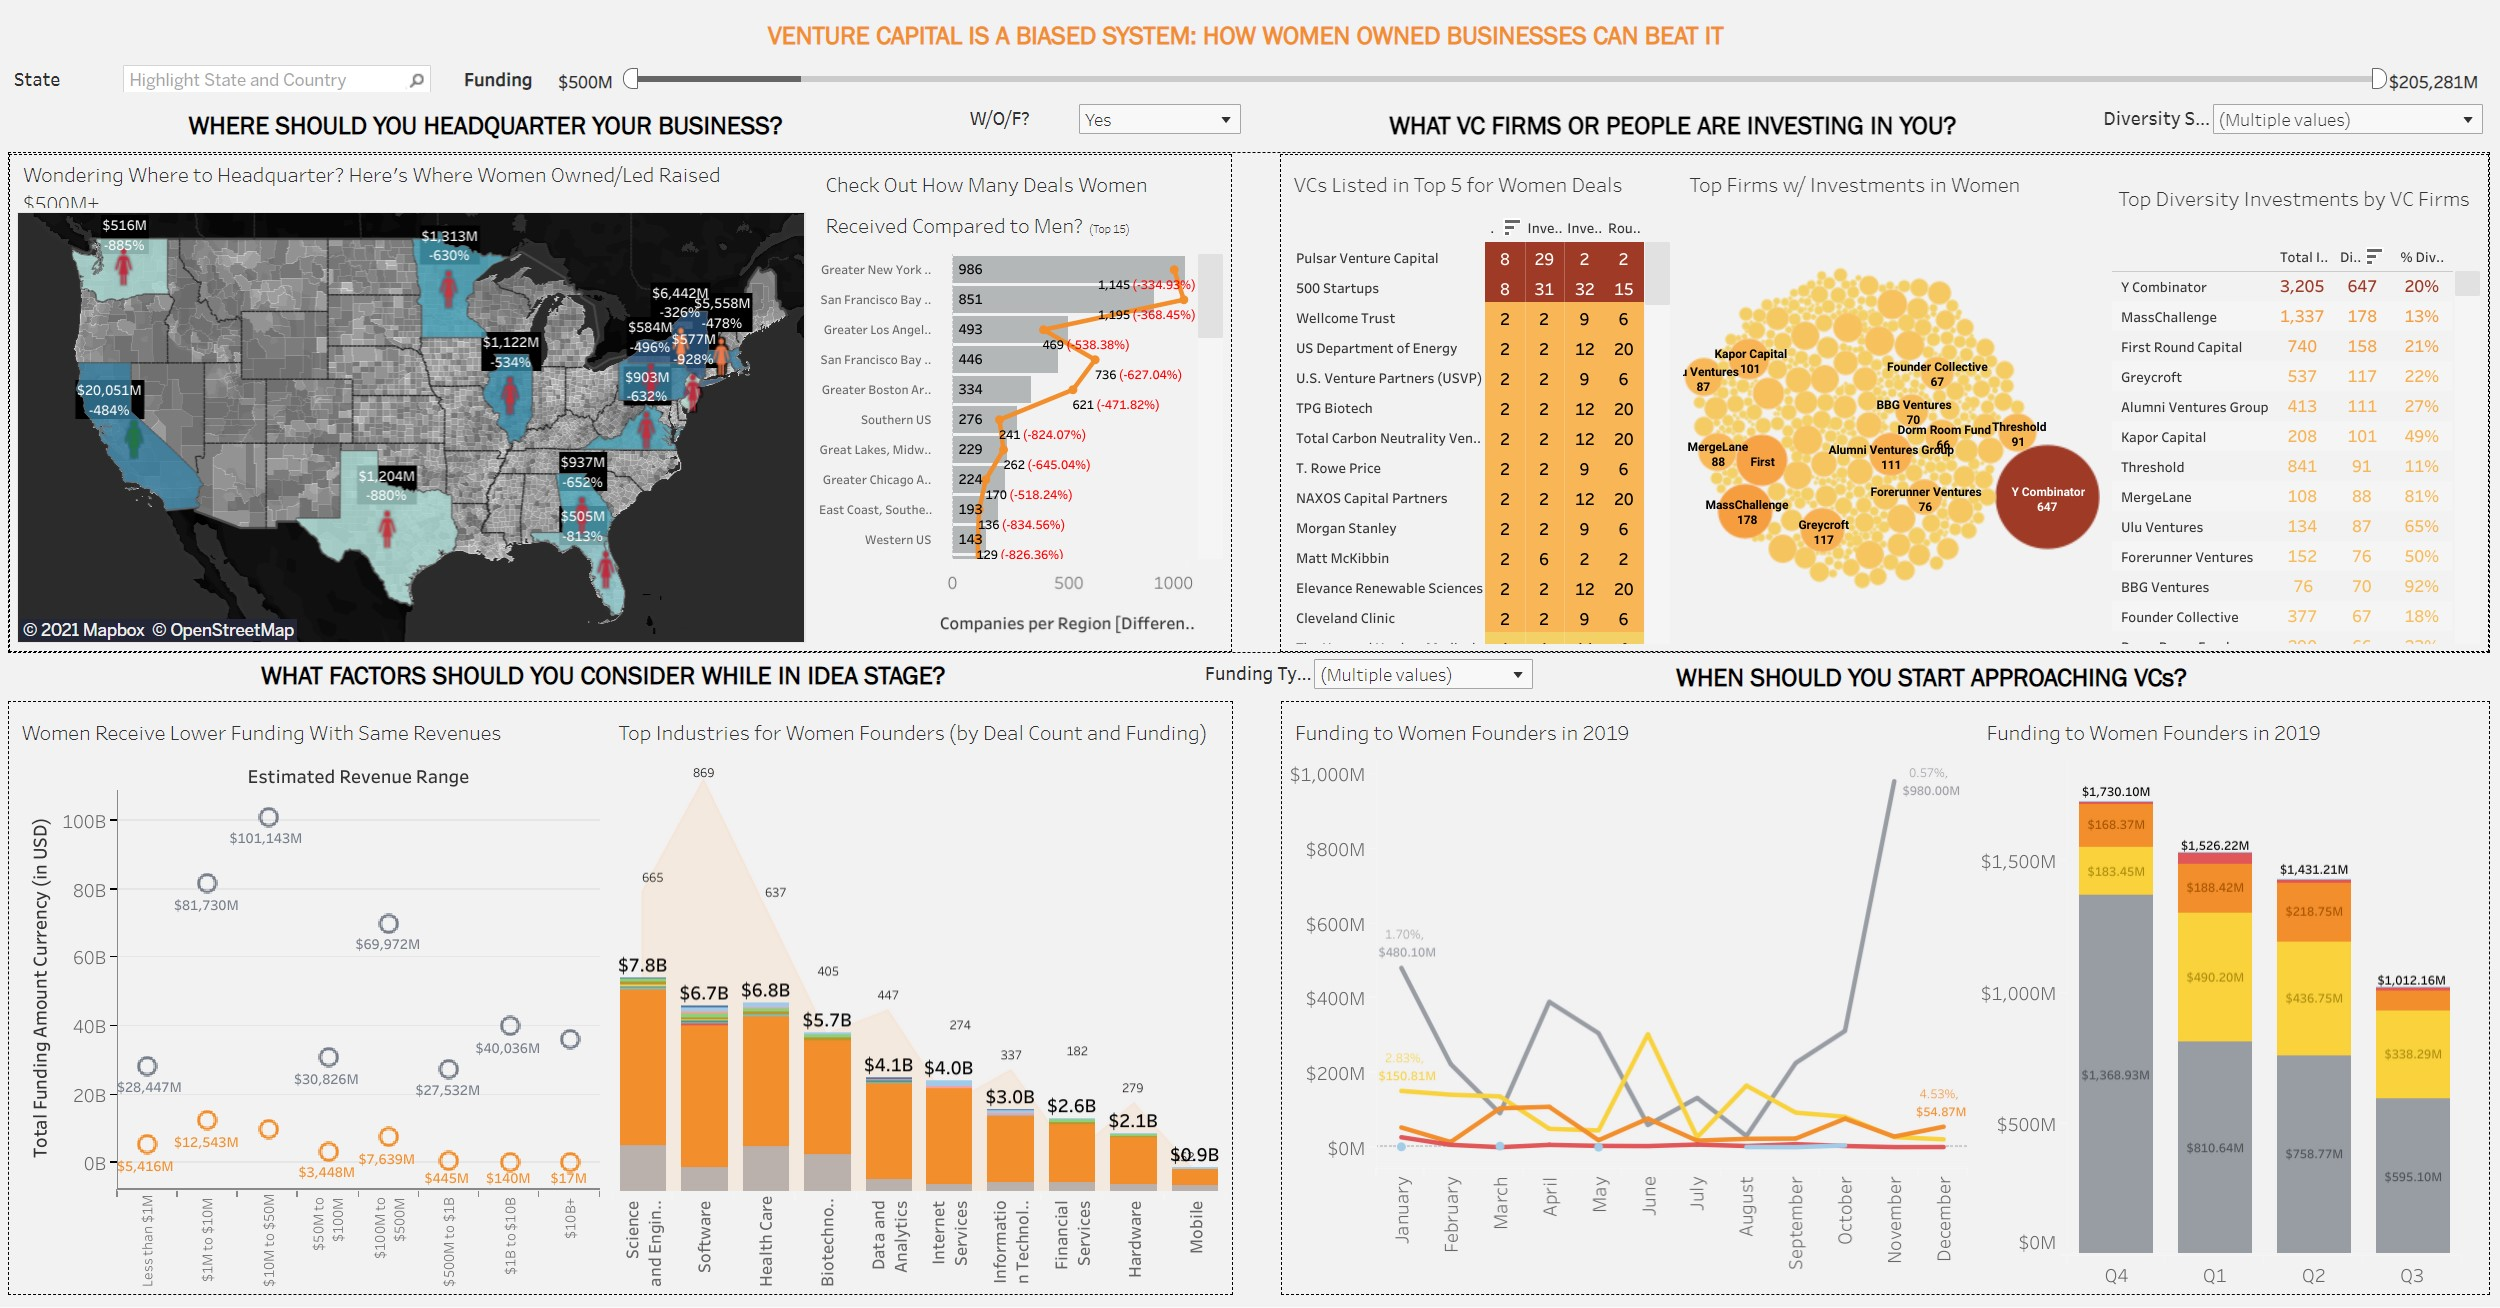

What the dashboard file says about the page in this screenshot:
{"tool":"tableau","page":{"name":"Recommendations-Tool","canvas":[1671,872],"ordinal":0},"visuals":[{"type":"worksheet","box":[0,0,1671,872]},{"type":"worksheet","box":[8,8,1655,31.8]},{"type":"worksheet","title":"Where 500M Raised","mark":"Shape","param":"[federated.0ehsqqd0frhss51cdxhmf1u2eaz9].[none:State and Country:nk]","box":[8,39.8,287,26]},{"type":"worksheet","title":"Where 500M Raised","mark":"Shape","param":"[federated.0ehsqqd0frhss51cdxhmf1u2eaz9].[sum:Total Funding Amount Currency (in ","box":[295,39.8,1368,26]},{"type":"worksheet","box":[8,65.7,636.9,36]},{"type":"worksheet","title":"Cities with Women Founders","mark":"Bar","rows":["Headquarters Regions"],"cols":["Extract (Extract.Extract)_5500F89EE6E44074A1C5E3010C4F1C5E","Number of Funding Rounds"],"param":"[federated.0ehsqqd0frhss51cdxhmf1u2eaz9].[none:WomenFounded:nk]","box":[644.9,65.7,190,36]},{"type":"worksheet","box":[834.9,65.7,566,36]},{"type":"worksheet","title":"Top Diversity Investments by VC Firms","mark":"Automatic","rows":["Organization/Person Name"],"param":"[federated.0ehsqqd0frhss51cdxhmf1u2eaz9].[none:Diversity Spotlight (US Only) Spl","box":[1400.9,65.7,262.1,36]},{"type":"worksheet","param":"vert","box":[8,101.8,1655,762.2]},{"type":"worksheet","param":"horz","box":[8,101.8,1655,334]},{"type":"worksheet","param":"horz","box":[9,102.8,815,332]},{"type":"worksheet","box":[824,102.8,32,332]},{"type":"worksheet","param":"horz","box":[856,102.8,806,332]},{"type":"worksheet","title":"Where 500M Raised","mark":"Shape","box":[10,103.8,535,330]},{"type":"worksheet","title":"Cities with Women Founders","mark":"Bar","rows":["Headquarters Regions"],"cols":["Extract (Extract.Extract)_5500F89EE6E44074A1C5E3010C4F1C5E","Number of Funding Rounds"],"box":[545,103.8,278,330]},{"type":"worksheet","title":"VCs Listed in Top 5","mark":"Square","rows":["Top Investors Split"],"box":[857,103.8,264,330]},{"type":"worksheet","title":"Top Firms w/ Investments in Women","mark":"Circle","box":[1121,103.8,286,330]},{"type":"worksheet","title":"Top Diversity Investments by VC Firms","mark":"Automatic","rows":["Organization/Person Name"],"box":[1407,103.8,253.9,330]},{"type":"worksheet","box":[8,435.8,1655,32]},{"type":"worksheet","param":"horz","box":[8,435.8,794.3,32]},{"type":"worksheet","box":[8,435.8,794.3,28]},{"type":"worksheet","param":"horz","box":[802.3,435.8,860.7,32]},{"type":"worksheet","title":"Funding for Diverse Founders (by Deal Count and Funding) (3)","mark":"Line","rows":["Total Funding Amount Currency (in USD)"],"cols":["Announced Date (Extract1) #1"],"param":"[federated.0ehsqqd0frhss51cdxhmf1u2eaz9].[none:Funding Type (Extract1):nk]","box":[802.3,435.8,228,32]},{"type":"worksheet","box":[1030.3,435.8,521,32]},{"type":"worksheet","param":"horz","box":[8,467.8,1655,396.2]},{"type":"worksheet","param":"horz","box":[8,467.8,817,396.2]},{"type":"worksheet","box":[825,467.8,32,396.2]},{"type":"worksheet","param":"horz","box":[857,467.8,806,396.2]},{"type":"worksheet","title":"Total Funding Women Founders","mark":"Shape","rows":["Total Funding Amount Currency (in USD)"],"cols":["Estimated Revenue Range"],"box":[9,468.8,398,394.2]},{"type":"worksheet","title":"Top Industries for Diverse Founders (by Deal Count and Funding)","mark":"Automatic","rows":["Number of Funding Rounds","Total Funding Amount Currency (in USD)"],"cols":["Industry Groups Split"],"box":[407,468.8,416.9,394.2]},{"type":"worksheet","title":"Funding for Diverse Founders (by Deal Count and Funding) (3)","mark":"Line","rows":["Total Funding Amount Currency (in USD)"],"cols":["Announced Date (Extract1) #1"],"box":[858,468.8,461,394.2]},{"type":"worksheet","title":"Funding for Diverse Founders (by Deal Count and Funding) (4)","mark":"Bar","rows":["Total Funding Amount Currency (in USD)"],"cols":["Announced Date (Extract1) #1"],"box":[1319,468.8,329,394.2]}]}

Visuals, with their boxes in screenshot pixels (x1, y1, x2, y2), scaled from the page's 1671x872 canvas onto the 2500x1308 screenshot:
worksheet: box=[0, 0, 2499, 1307]
worksheet: box=[12, 12, 2488, 60]
"Where 500M Raised" worksheet (Shape marks): box=[12, 60, 441, 99]
"Where 500M Raised" worksheet (Shape marks): box=[441, 60, 2488, 99]
worksheet: box=[12, 99, 965, 153]
"Cities with Women Founders" worksheet (Bar marks): box=[965, 99, 1249, 153]
worksheet: box=[1249, 99, 2096, 153]
"Top Diversity Investments by VC Firms" worksheet: box=[2096, 99, 2488, 153]
worksheet: box=[12, 153, 2488, 1296]
worksheet: box=[12, 153, 2488, 654]
worksheet: box=[13, 154, 1233, 652]
worksheet: box=[1233, 154, 1281, 652]
worksheet: box=[1281, 154, 2487, 652]
"Where 500M Raised" worksheet (Shape marks): box=[15, 156, 815, 651]
"Cities with Women Founders" worksheet (Bar marks): box=[815, 156, 1231, 651]
"VCs Listed in Top 5" worksheet (Square marks): box=[1282, 156, 1677, 651]
"Top Firms w/ Investments in Women" worksheet (Circle marks): box=[1677, 156, 2105, 651]
"Top Diversity Investments by VC Firms" worksheet: box=[2105, 156, 2485, 651]
worksheet: box=[12, 654, 2488, 702]
worksheet: box=[12, 654, 1200, 702]
worksheet: box=[12, 654, 1200, 696]
worksheet: box=[1200, 654, 2488, 702]
"Funding for Diverse Founders (by Deal Count and Funding) (3)" worksheet (Line marks): box=[1200, 654, 1541, 702]
worksheet: box=[1541, 654, 2321, 702]
worksheet: box=[12, 702, 2488, 1296]
worksheet: box=[12, 702, 1234, 1296]
worksheet: box=[1234, 702, 1282, 1296]
worksheet: box=[1282, 702, 2488, 1296]
"Total Funding Women Founders" worksheet (Shape marks): box=[13, 703, 609, 1294]
"Top Industries for Diverse Founders (by Deal Count and Funding)" worksheet: box=[609, 703, 1233, 1294]
"Funding for Diverse Founders (by Deal Count and Funding) (3)" worksheet (Line marks): box=[1284, 703, 1973, 1294]
"Funding for Diverse Founders (by Deal Count and Funding) (4)" worksheet (Bar marks): box=[1973, 703, 2466, 1294]
